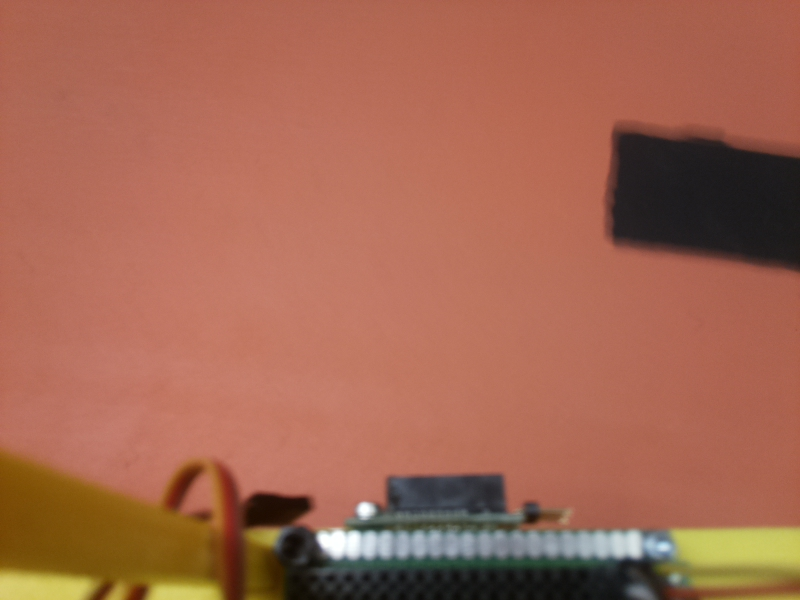start: (602, 120, 800, 273)
